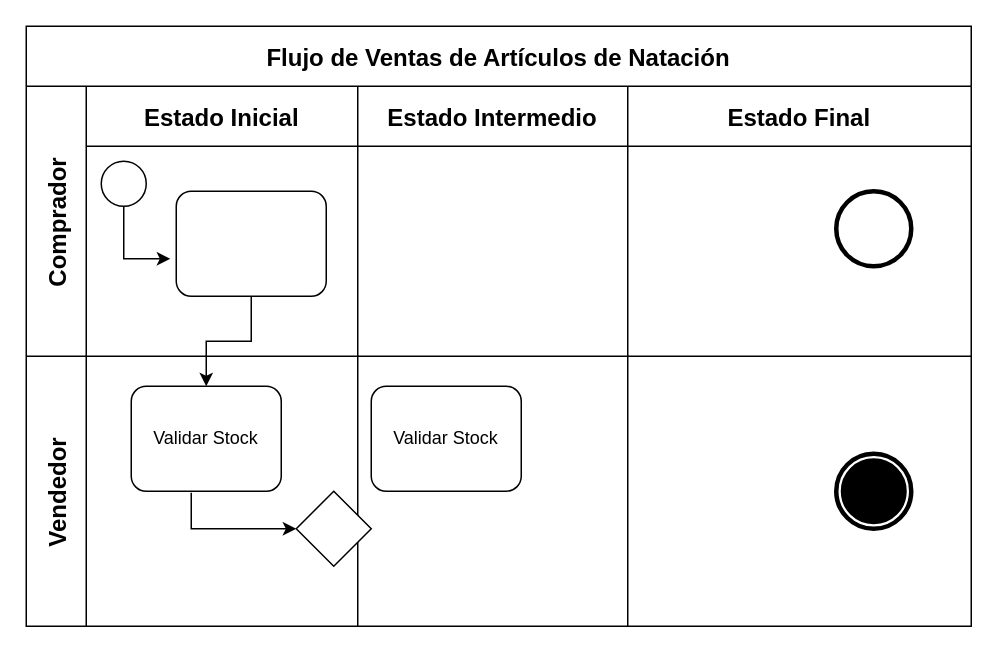
Some shapes in this 998 by 653 pixel diagram are drawn without their labels. Here are the shapes that lost their labels. From the top down, the centre of each, then its label:
At pixel 250 243: "Consulta por artí culo".
At pixel 333 528: "Disponibilidad".
